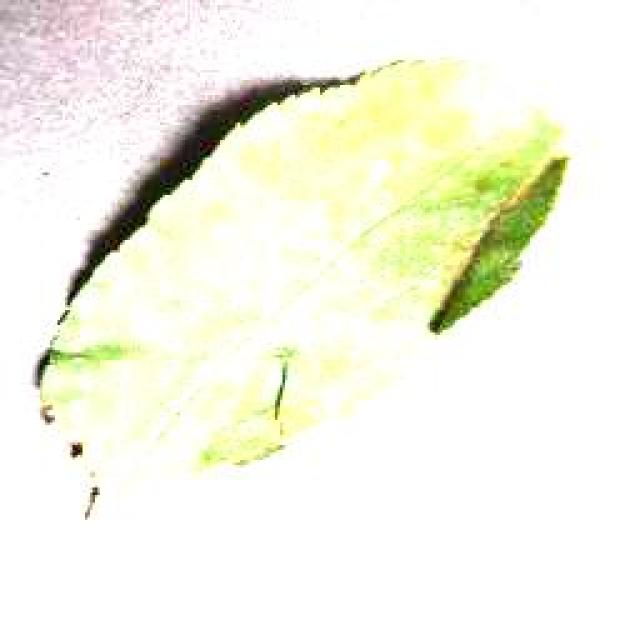apple healthy: (32, 52, 570, 520)
